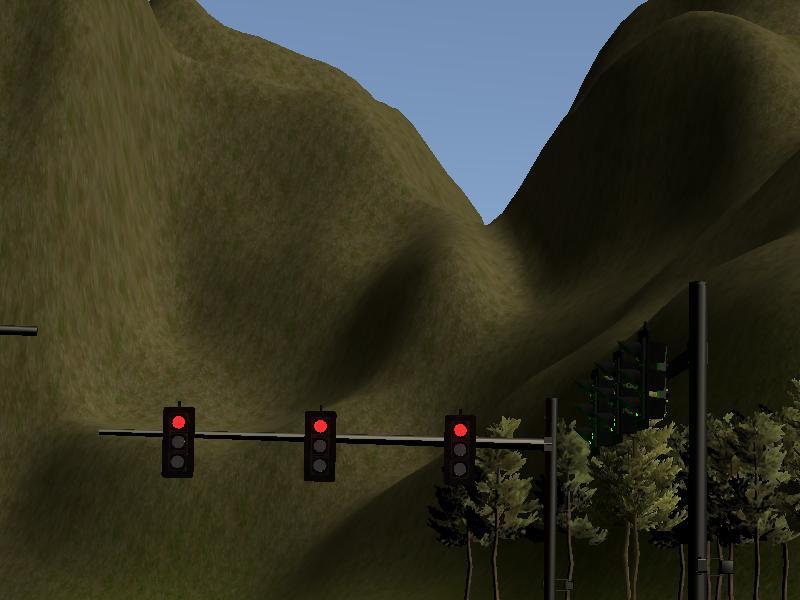Red: (163, 407, 194, 476), (306, 413, 334, 479), (447, 416, 474, 484)
